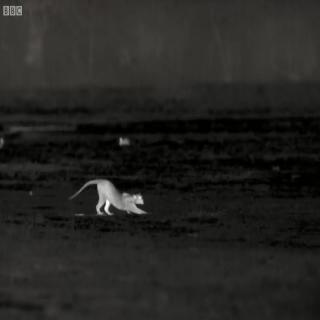Leopard: (64, 157, 160, 227)
